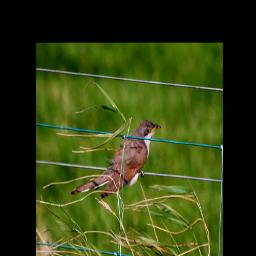Cuckoo: (69, 115, 162, 207)
